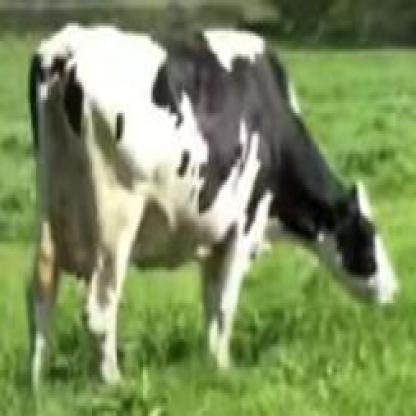cow: (25, 23, 400, 390)
